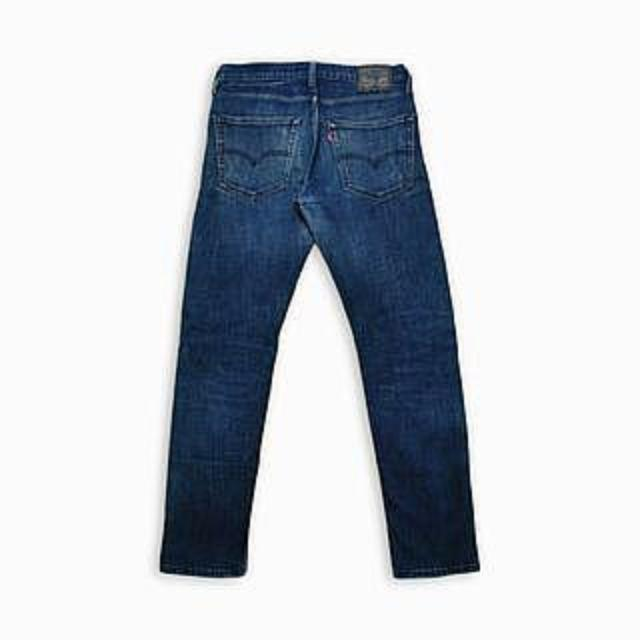TROUSER: (140, 55, 505, 586)
